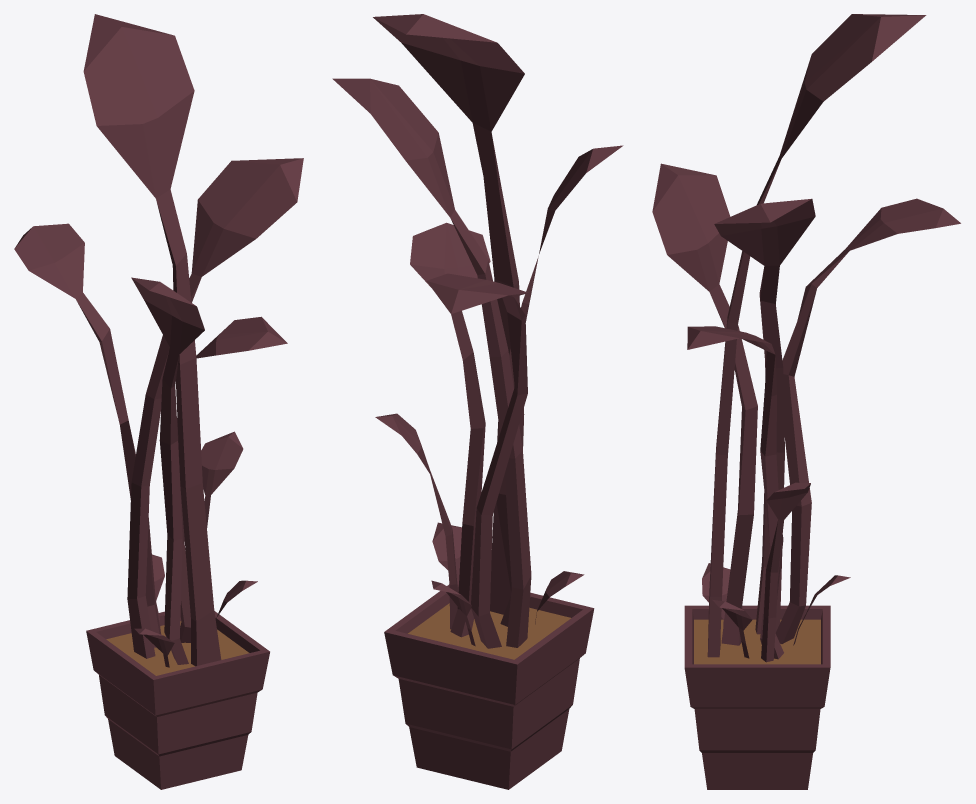
File: pot-medium-rectangle-plant.fbx
3 views of the same model, side by side, from view 1: azimuth 30°, elevation 25°; view 2: azimuth 150°, elevation 25°; view 3: azimuth 270°, elevation 25° (orthographic). The views are drawn at different scales.
Parts seen in each view (by area): view 1: pot-medium-rectangle-plant; view 2: pot-medium-rectangle-plant; view 3: pot-medium-rectangle-plant.
Part boxes in pixels (x1=…): pot-medium-rectangle-plant: x1=14, y1=14, x2=303, y2=789; pot-medium-rectangle-plant: x1=332, y1=14, x2=623, y2=789; pot-medium-rectangle-plant: x1=652, y1=14, x2=960, y2=789.
Size of the model in its own units: 0.5179 by 1.53 by 0.5718.
